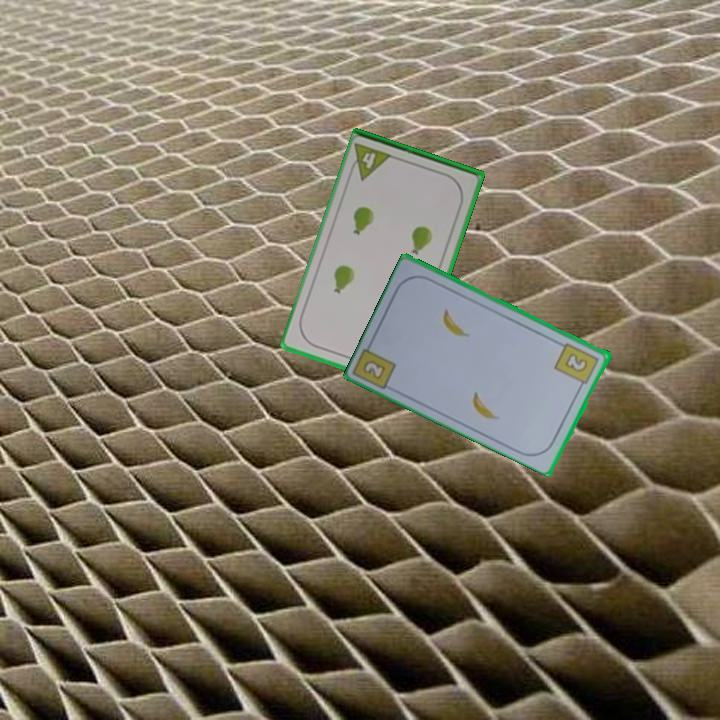2b: (551, 339, 602, 392), (362, 359, 386, 380)
4p: (345, 139, 396, 183)
